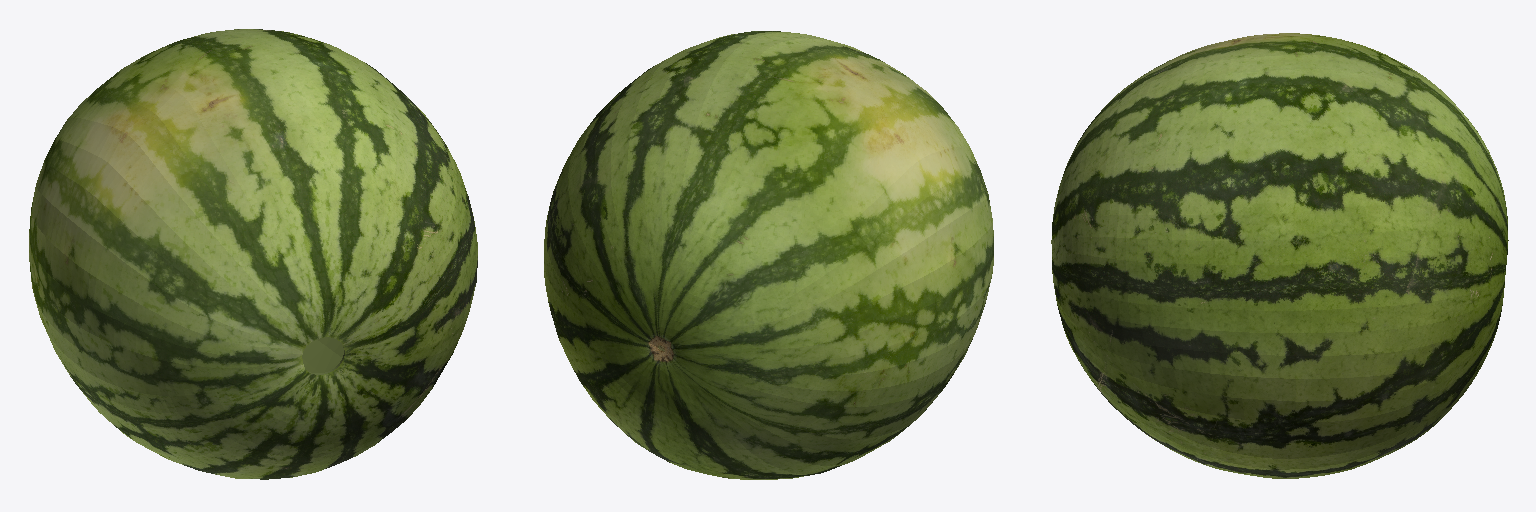
3 views of the same model, side by side, from view 1: azimuth 30°, elevation 25°; view 2: azimuth 150°, elevation 25°; view 3: azimuth 270°, elevation 25° (orthographic).
Parts seen in each view (by area): view 1: WatermelonPeel; view 2: WatermelonPeel; view 3: WatermelonPeel.
Boxes of the visible parts, <box> form: WatermelonPeel: <box>29,29,477,479</box>; WatermelonPeel: <box>544,31,993,479</box>; WatermelonPeel: <box>1051,33,1508,478</box>.
Bounding box in the file's own units: 0.2645 × 0.2693 × 0.275.
1 materials, 1 textured.